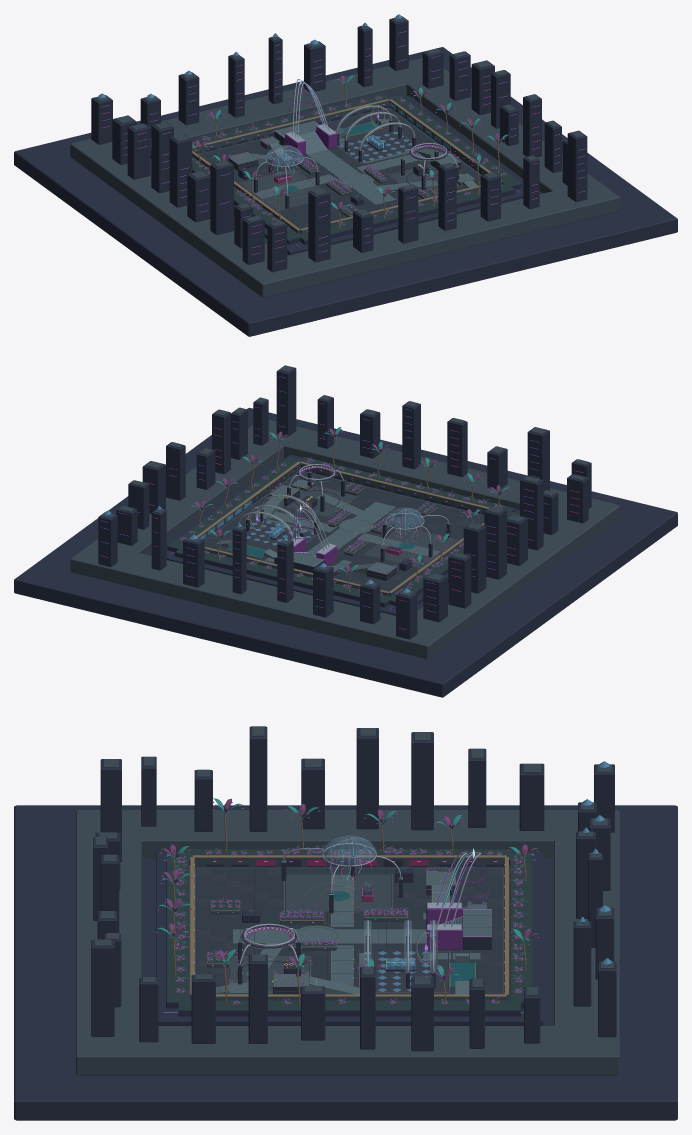
Rendered from neon-world.glb.
3 views of the same model, one above another, from view 1: azimuth 30°, elevation 25°; view 2: azimuth 150°, elevation 25°; view 3: azimuth 270°, elevation 25° (orthographic). The views are drawn at different scales.
Visible parts, largest first — view 1: NEON / Midnight titanium, NEON / Blue-black ceramic, NEON / Wet obsidian pavers, NEON / Pearlescent route alloy, NEON / Moss velvet, NEON / Terrace garden brass, NEON / Wet indigo pavers, NEON / Brushed pale titanium, NEON / Iridescent fern reverse, NEON / Holographic fern blades, NEON / Lucent membrane, NEON / Optical blue crystal (+2 smaller); view 2: NEON / Midnight titanium, NEON / Blue-black ceramic, NEON / Wet obsidian pavers, NEON / Moss velvet, NEON / Pearlescent route alloy, NEON / Terrace garden brass, NEON / Wet indigo pavers, NEON / Iridescent fern reverse, NEON / Brushed pale titanium, NEON / Holographic fern blades, NEON / Lucent membrane, NEON / Optical blue crystal (+2 smaller); view 3: NEON / Midnight titanium, NEON / Blue-black ceramic, NEON / Wet obsidian pavers, NEON / Moss velvet, NEON / Pearlescent route alloy, NEON / Terrace garden brass, NEON / Wet indigo pavers, NEON / Iridescent fern reverse, NEON / Brushed pale titanium, NEON / Holographic fern blades, NEON / Lucent membrane, NEON / Amethyst architectural enamel (+4 smaller).
Part boxes in pixels (x1=…): NEON / Midnight titanium: x1=14, y1=16, x2=677, y2=336; NEON / Blue-black ceramic: x1=70, y1=17, x2=620, y2=297; NEON / Wet obsidian pavers: x1=201, y1=108, x2=480, y2=228; NEON / Pearlescent route alloy: x1=228, y1=118, x2=477, y2=204; NEON / Moss velvet: x1=192, y1=94, x2=520, y2=239; NEON / Terrace garden brass: x1=192, y1=79, x2=502, y2=234; NEON / Wet indigo pavers: x1=199, y1=110, x2=480, y2=228; NEON / Brushed pale titanium: x1=254, y1=79, x2=459, y2=195; NEON / Iridescent fern reverse: x1=192, y1=75, x2=509, y2=232; NEON / Holographic fern blades: x1=192, y1=75, x2=509, y2=230; NEON / Lucent membrane: x1=265, y1=106, x2=414, y2=166; NEON / Optical blue crystal: x1=98, y1=14, x2=450, y2=162; NEON / Midnight titanium: x1=14, y1=365, x2=677, y2=697; NEON / Blue-black ceramic: x1=70, y1=365, x2=620, y2=659; NEON / Wet obsidian pavers: x1=204, y1=472, x2=484, y2=591; NEON / Moss velvet: x1=168, y1=457, x2=519, y2=602; NEON / Pearlescent route alloy: x1=215, y1=477, x2=439, y2=574; NEON / Terrace garden brass: x1=191, y1=431, x2=499, y2=595; NEON / Wet indigo pavers: x1=213, y1=474, x2=484, y2=584; NEON / Iridescent fern reverse: x1=181, y1=428, x2=510, y2=594; NEON / Brushed pale titanium: x1=222, y1=464, x2=450, y2=567; NEON / Holographic fern blades: x1=179, y1=427, x2=509, y2=594; NEON / Lucent membrane: x1=247, y1=496, x2=424, y2=538; NEON / Optical blue crystal: x1=104, y1=500, x2=410, y2=593; NEON / Midnight titanium: x1=14, y1=726, x2=677, y2=1120; NEON / Blue-black ceramic: x1=76, y1=726, x2=619, y2=1075; NEON / Wet obsidian pavers: x1=196, y1=868, x2=502, y2=994; NEON / Moss velvet: x1=167, y1=849, x2=532, y2=1009; NEON / Pearlescent route alloy: x1=216, y1=871, x2=491, y2=994; NEON / Terrace garden brass: x1=165, y1=803, x2=534, y2=1005; NEON / Wet indigo pavers: x1=196, y1=868, x2=502, y2=994; NEON / Iridescent fern reverse: x1=156, y1=799, x2=538, y2=1004; NEON / Brushed pale titanium: x1=219, y1=835, x2=481, y2=991; NEON / Holographic fern blades: x1=157, y1=798, x2=537, y2=1004; NEON / Lucent membrane: x1=322, y1=835, x2=436, y2=970; NEON / Amethyst architectural enamel: x1=244, y1=859, x2=489, y2=949.
Bounding box in the file's own units: 192 × 41.46 × 182.
